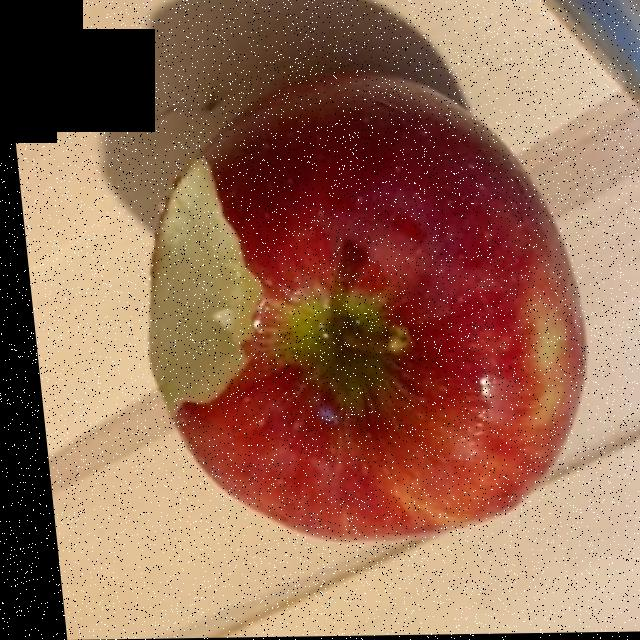apple: (147, 80, 575, 522)
